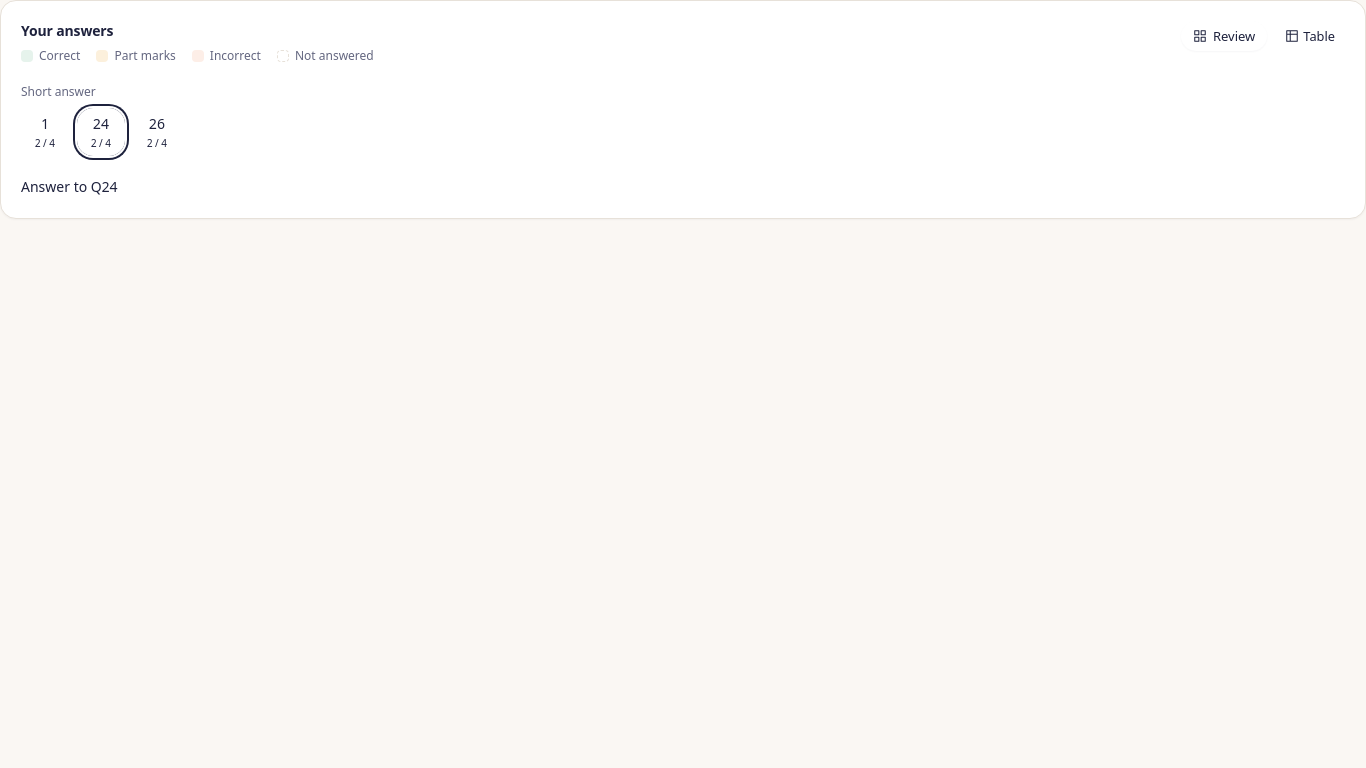
Test: preserves question numbering and opens a question from the MC grid
Expected: the text "Answer to Q24" is shown, [21,177,118,196]
Expected: the button named "Question 26, 2 / 4 marks" is shown, [133,108,181,156]
Click the button with aria-label "Table view" at (1310, 36), box [1275,21,1345,51]
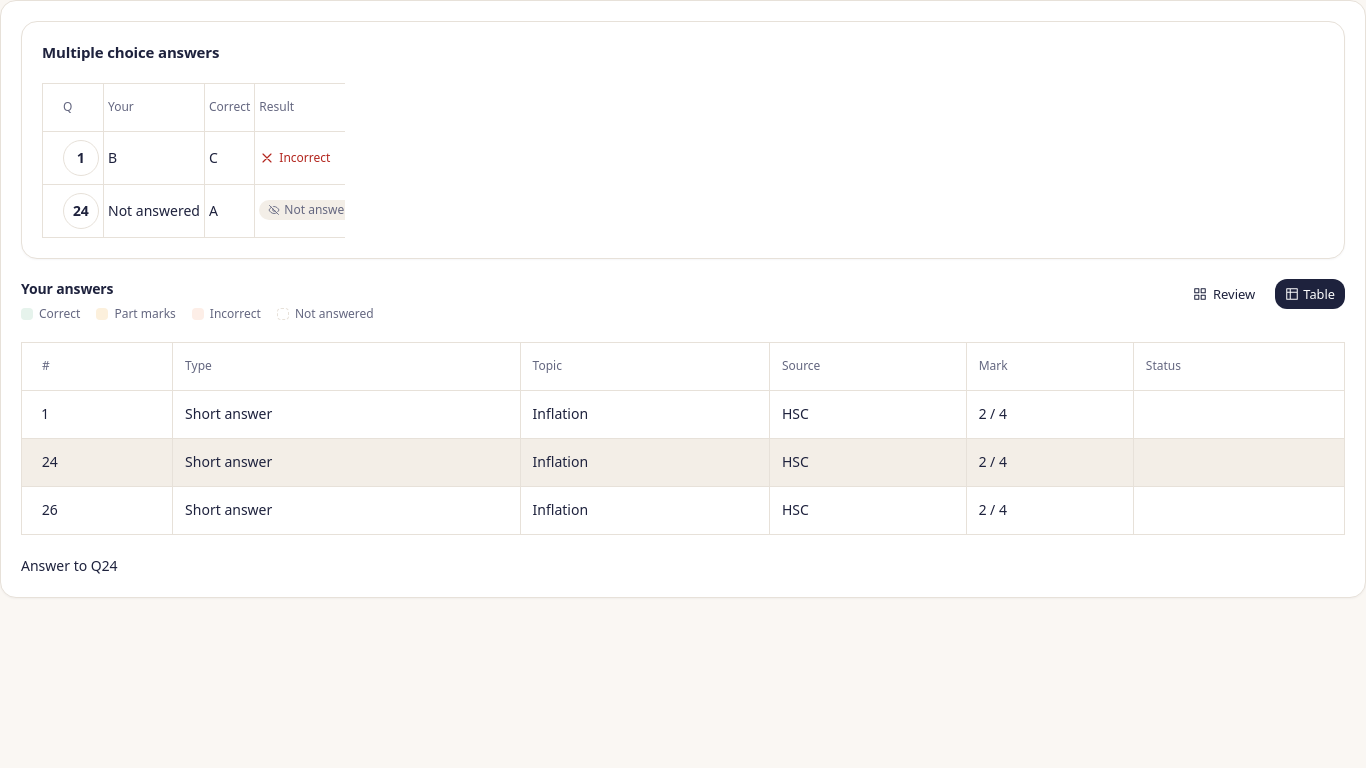
Expected: the text "Incorrect" is shown, [259,149,330,166]
Expected: the text "Not answered" is shown 2 times, [104,184,204,237]; [259,200,344,220]
Click the button named "Review question 1" at (81, 158), box [63,140,99,176]
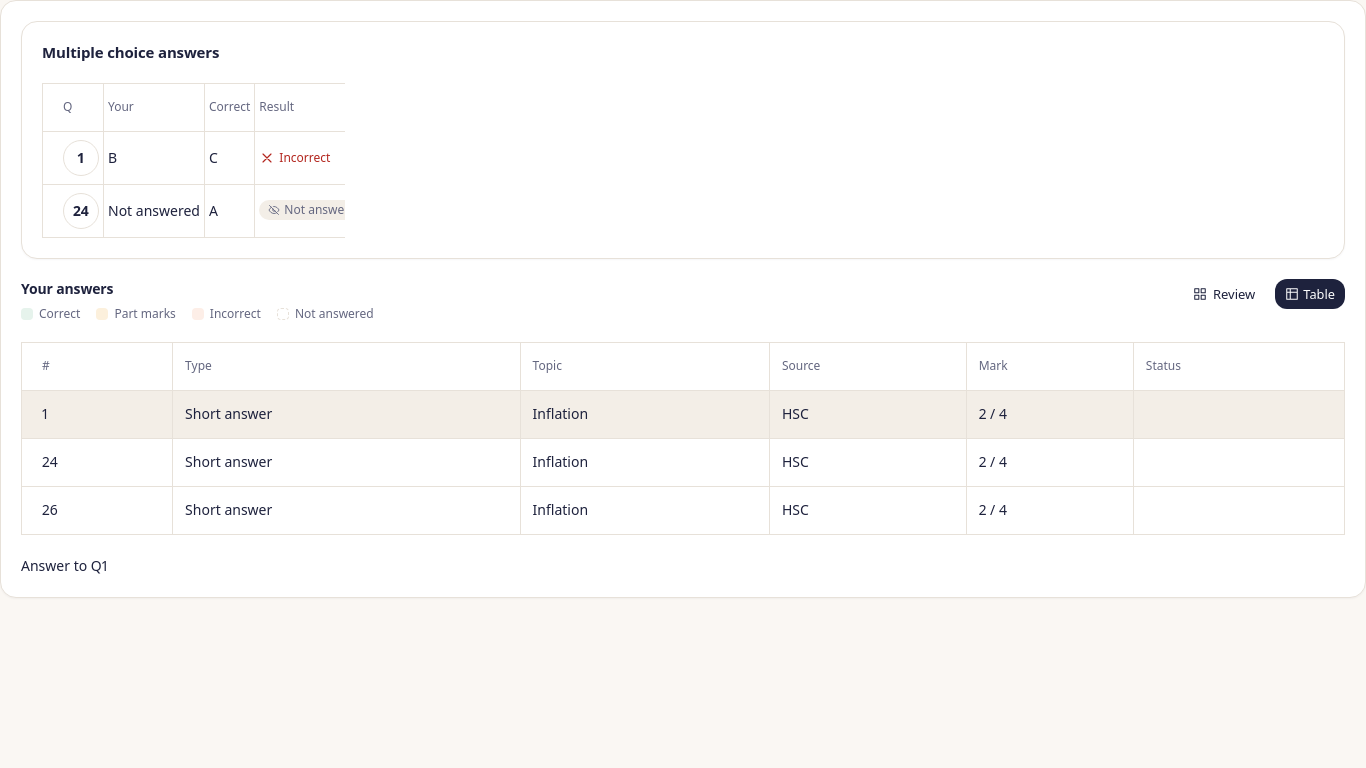
Expected: the text "Answer to Q1" is shown, [21,556,108,575]
